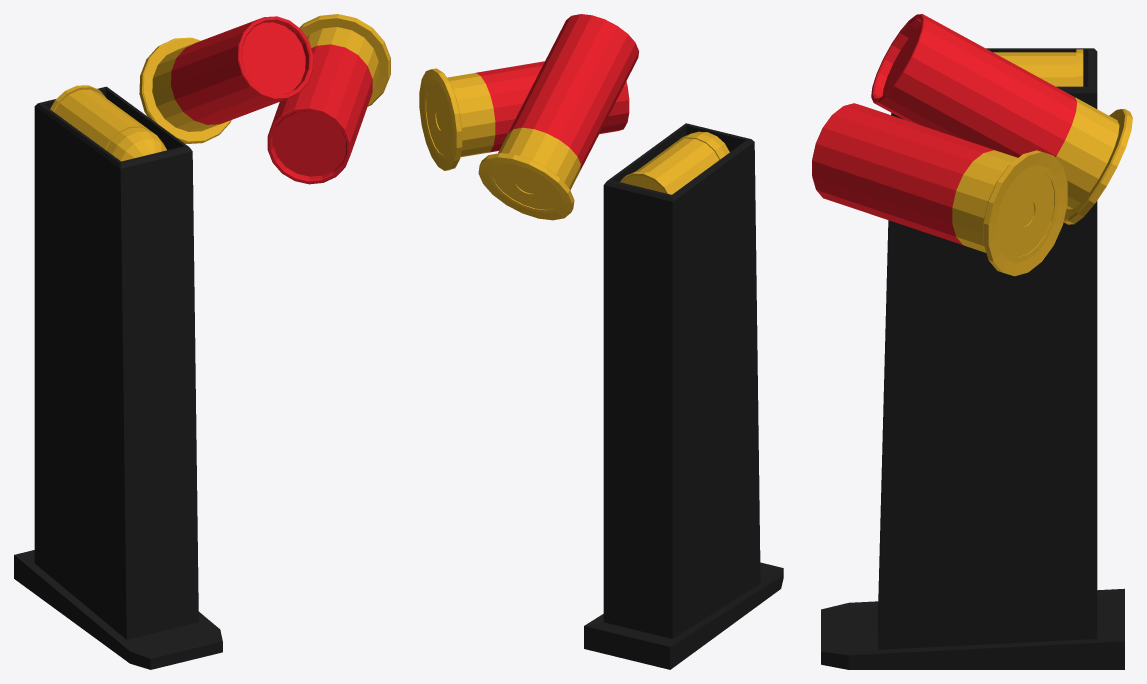
The model's file is ProjectRoom_Mags.fbx.
3 renders of one model, left to right at view 1: azimuth 30°, elevation 25°; view 2: azimuth 150°, elevation 25°; view 3: azimuth 270°, elevation 25°, orthographic. The views are drawn at different scales.
Parts seen in each view (by area): view 1: PistolMag, ShotgunShell.001, ShotgunShell, Bullet; view 2: PistolMag, ShotgunShell.001, ShotgunShell, Bullet; view 3: PistolMag, ShotgunShell, ShotgunShell.001, Bullet.
Boxes of the visible parts, x1,y1,x2,y2 form: PistolMag: (14,86,222,669); ShotgunShell.001: (139,16,313,143); ShotgunShell: (267,14,390,184); Bullet: (50,85,166,161); PistolMag: (584,123,783,669); ShotgunShell.001: (478,14,639,220); ShotgunShell: (419,61,629,170); Bullet: (620,131,729,194); PistolMag: (821,48,1124,669); ShotgunShell: (812,103,1067,276); ShotgunShell.001: (871,14,1132,224); Bullet: (993,49,1083,86).
Bounding box in the file's own units: 50.17 × 87.42 × 36.59.
